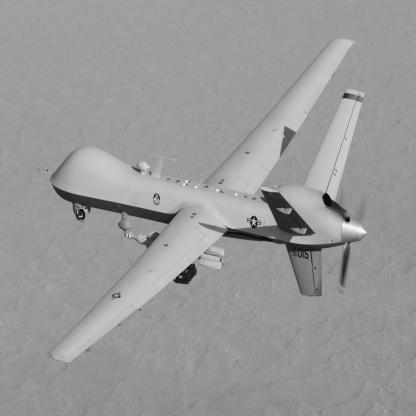MQ9: (34, 39, 369, 364)
